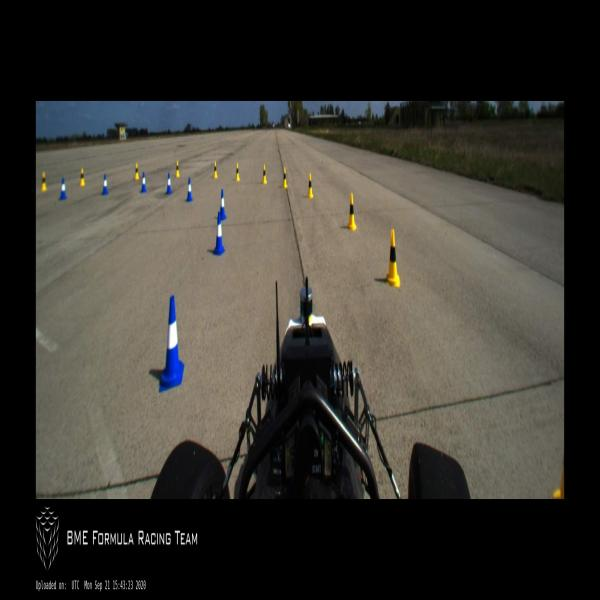blue_cone: (160, 296, 184, 392), (213, 212, 225, 255), (219, 189, 227, 221), (186, 178, 193, 202), (60, 177, 66, 200), (166, 172, 172, 194), (102, 174, 108, 195), (141, 172, 146, 193)
yellow_cone: (386, 229, 400, 287), (347, 193, 357, 231), (307, 173, 313, 199), (41, 172, 47, 192), (79, 168, 85, 187), (282, 167, 287, 188), (134, 163, 140, 180), (262, 165, 267, 184), (235, 163, 240, 180), (176, 160, 180, 177), (214, 162, 218, 178)
